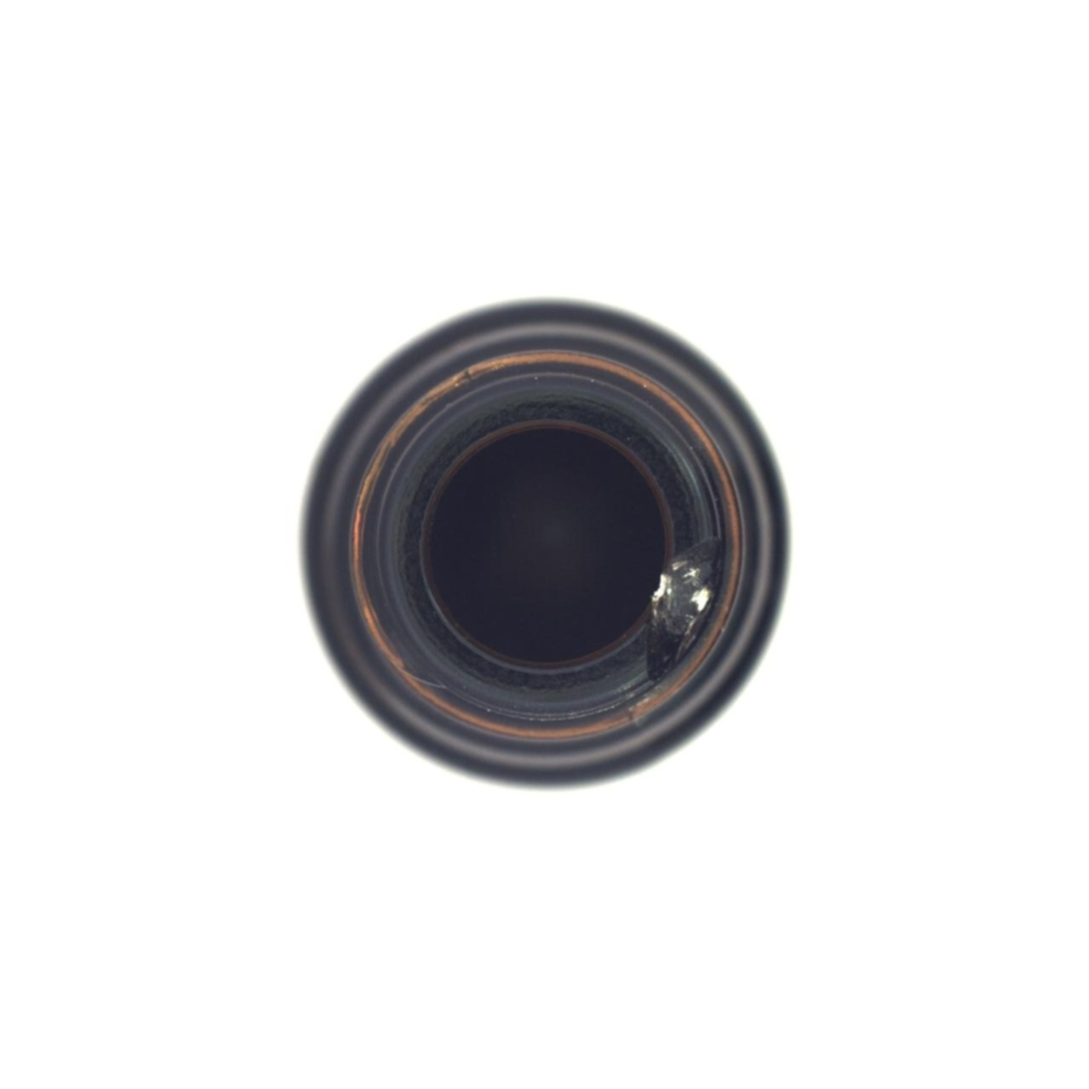bad-broken_small: (48, 54, 1039, 1045)
